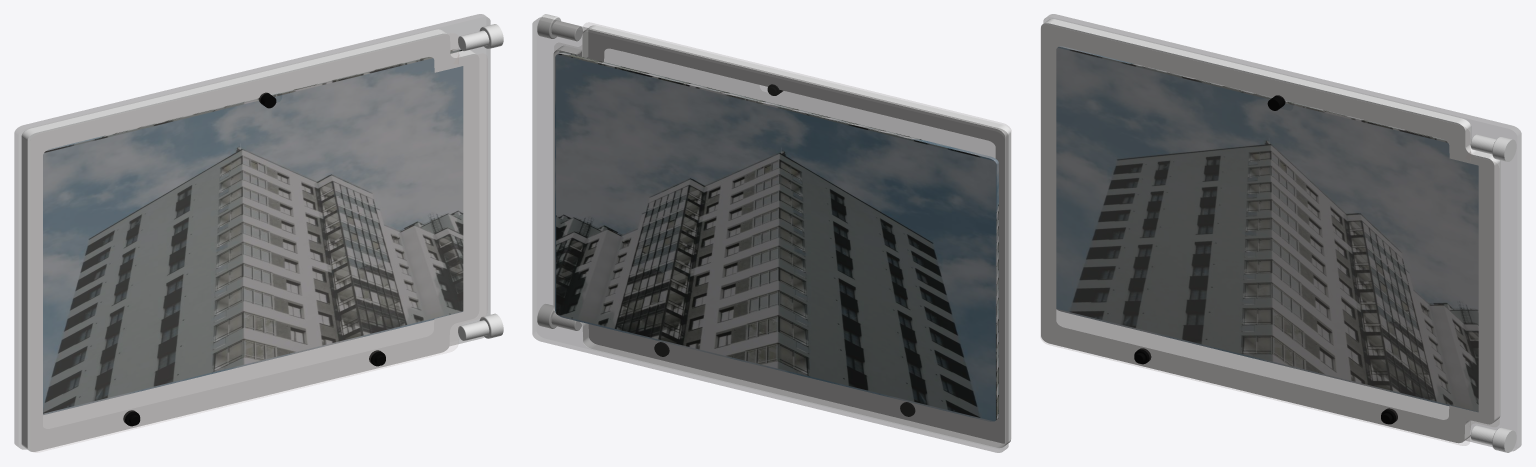
Rendered from a4landsr8.glb.
3 renders of one model, left to right at view 1: azimuth 30°, elevation 25°; view 2: azimuth 150°, elevation 25°; view 3: azimuth 330°, elevation 25°, orthographic.
Parts seen in each view (by area): view 1: a4horzone; view 2: a4horzone; view 3: a4horzone.
Part boxes in pixels (box(x1,y1,x2,y2)): a4horzone: box(14, 14, 503, 452); a4horzone: box(532, 14, 1011, 452); a4horzone: box(1040, 14, 1521, 452).
Size of the model in its own units: 0.2872 by 0.1867 by 0.0181.
Materials: 6 (1 with a texture image).
